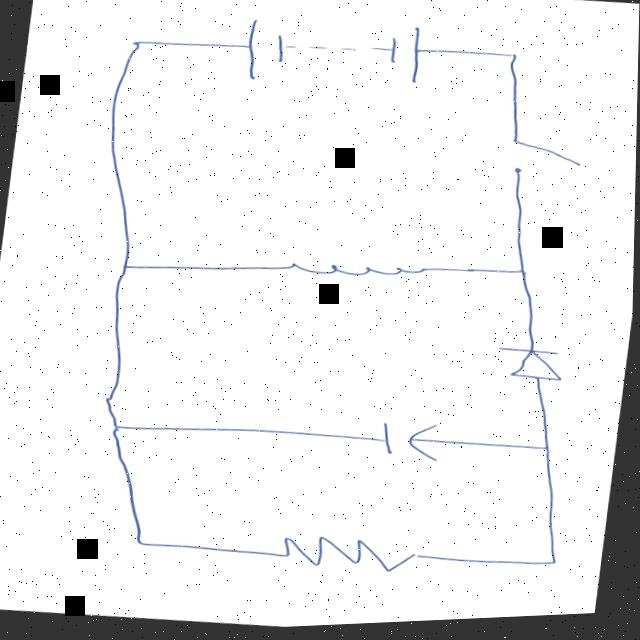capacitor: (349, 404, 470, 487)
diode: (477, 327, 582, 406)
inductor: (256, 226, 443, 320)
resistor: (259, 521, 451, 594)
source: (211, 0, 453, 110)
switch: (477, 127, 595, 205)
